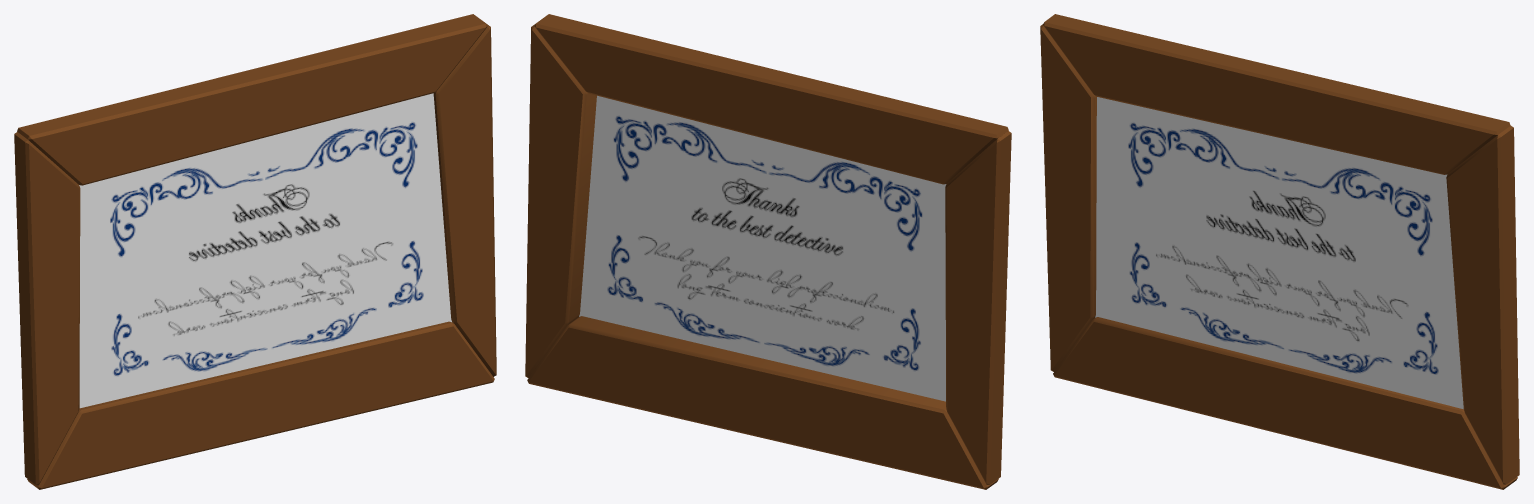
Rendered from Picture1.fbx.
The picture shows the model from 3 angles, left to right: view 1: azimuth 30°, elevation 25°; view 2: azimuth 150°, elevation 25°; view 3: azimuth 330°, elevation 25°; orthographic projection.
Parts seen in each view (by area): view 1: Picture1; view 2: Picture1; view 3: Picture1.
Boxes of the visible parts, left/top/right/bottom form: Picture1: left=14, top=14, right=496, bottom=489; Picture1: left=525, top=14, right=1011, bottom=489; Picture1: left=1040, top=14, right=1519, bottom=489.
Size of the model in its own units: 0.8211 by 0.6 by 0.0477.
